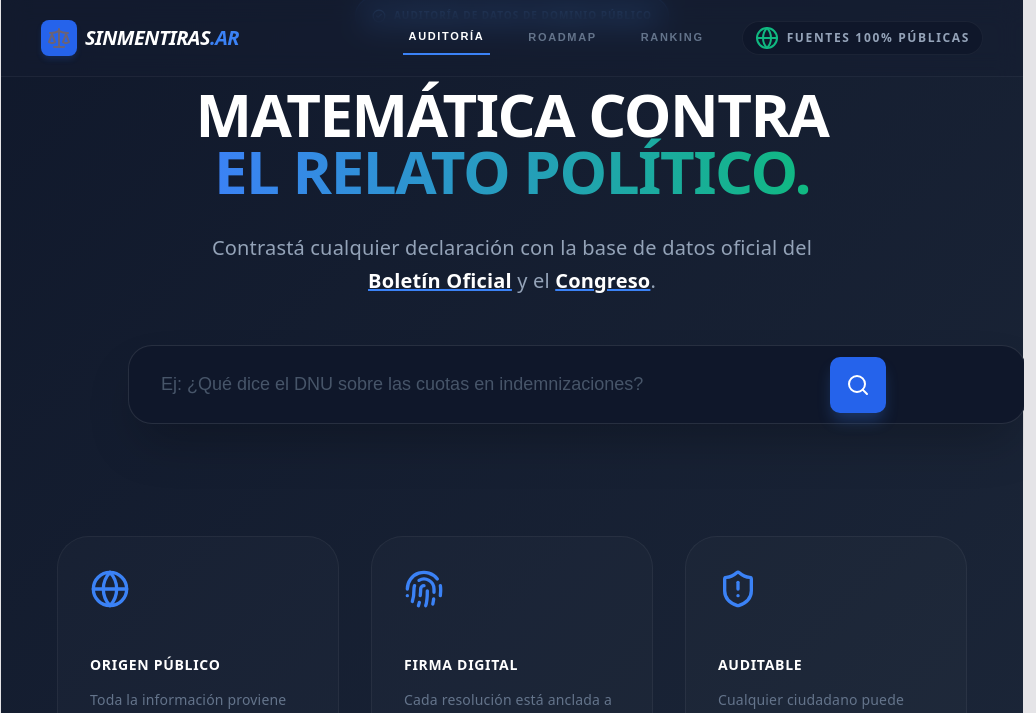
Test: App › hace búsqueda y navega a resolution
The image size is (1036, 713).
(page scrolled)
Type "decreto 70" into the field with placeholder "Ej: ¿Qué dice el DNU sobre las cuotas en indemnizaciones?" at (576, 385), box [128,345,1024,424]
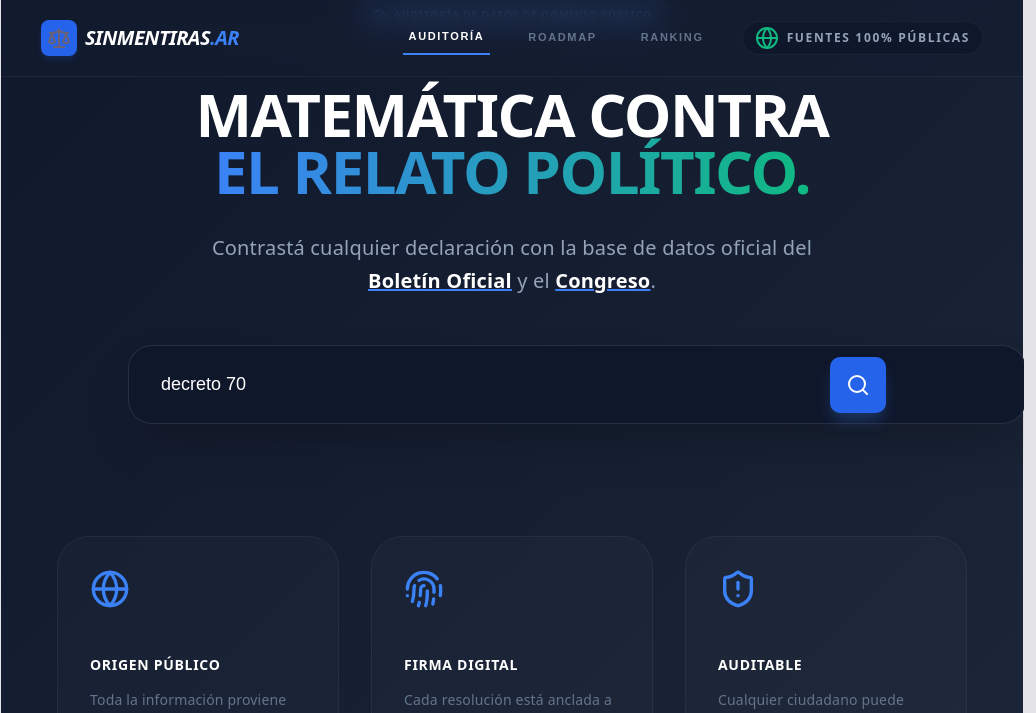
Click the submit button at (858, 385), box [830,357,886,413]
Wait 1200 ms
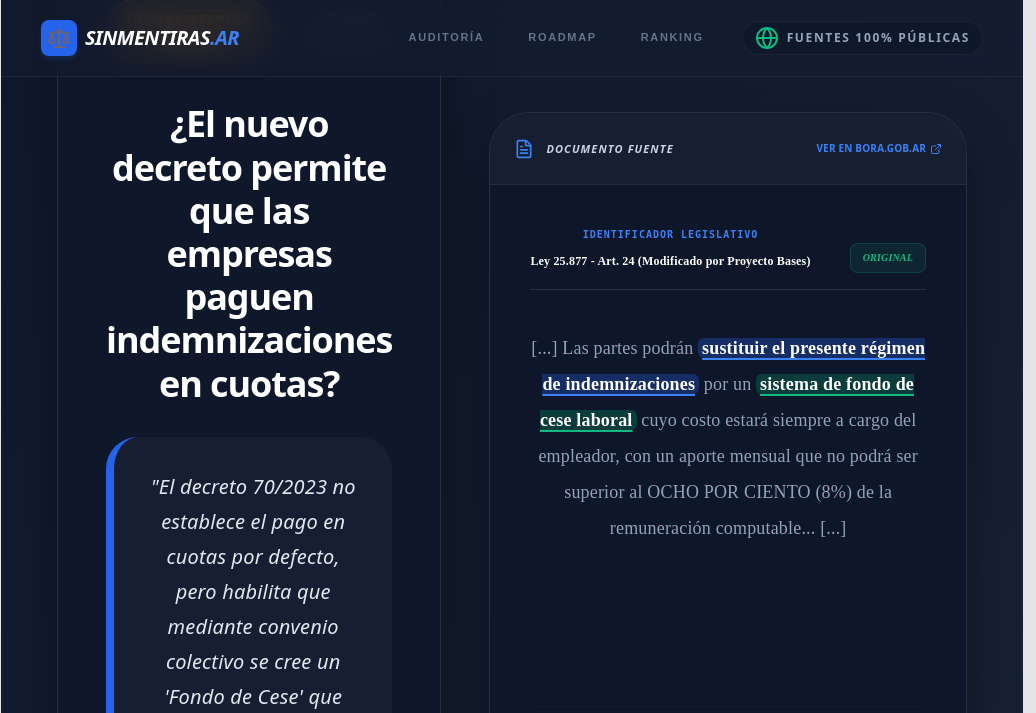
Now the text "Documento Fuente" is shown, box [546,137,674,160]
